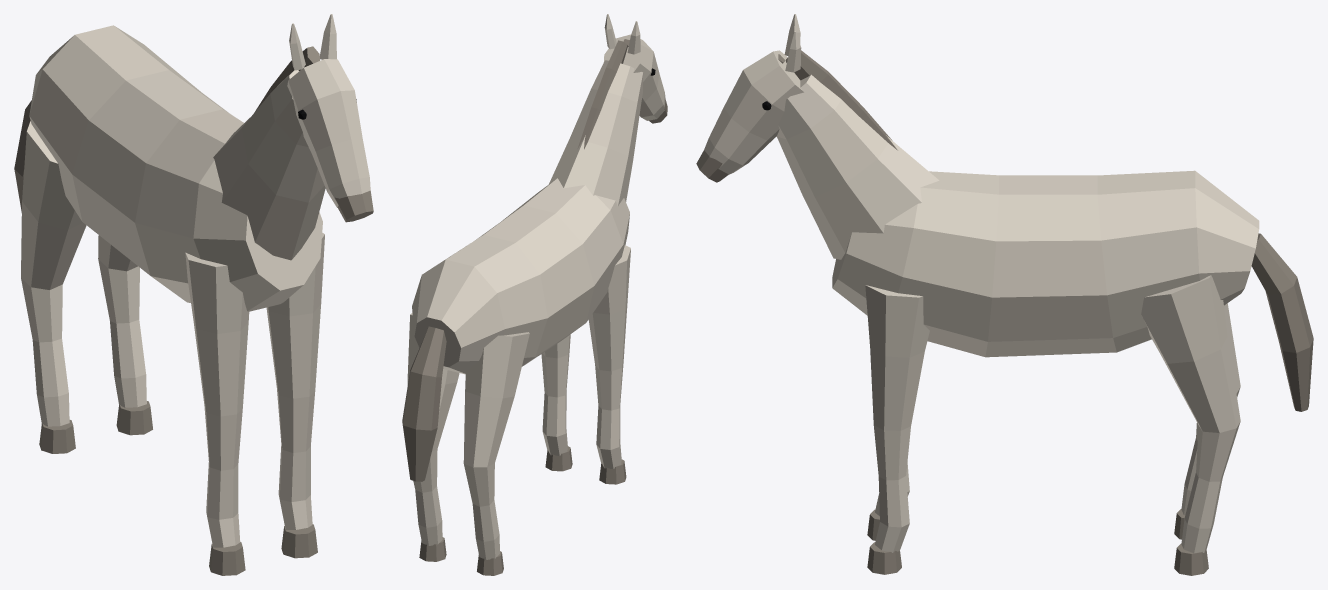
File: SM_Horse_White.obj
The picture shows the model from 3 angles, left to right: view 1: azimuth 30°, elevation 25°; view 2: azimuth 150°, elevation 25°; view 3: azimuth 270°, elevation 25°; orthographic projection. The views are drawn at different scales.
Parts seen in each view (by area): view 1: SM_Horse_White; view 2: SM_Horse_White; view 3: SM_Horse_White.
Part boxes in pixels (box(x1,y1,x2,y2)): SM_Horse_White: box(14, 14, 373, 575); SM_Horse_White: box(402, 14, 667, 575); SM_Horse_White: box(696, 14, 1313, 575).
Bounding box in the file's own units: 0.59 × 2.28 × 2.41.
